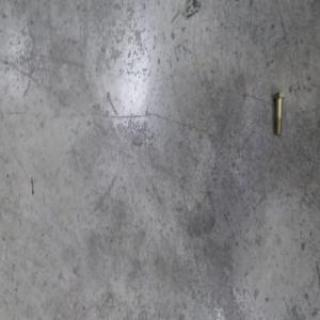Bolttrack_idkeyframe: (271, 91, 284, 136)
